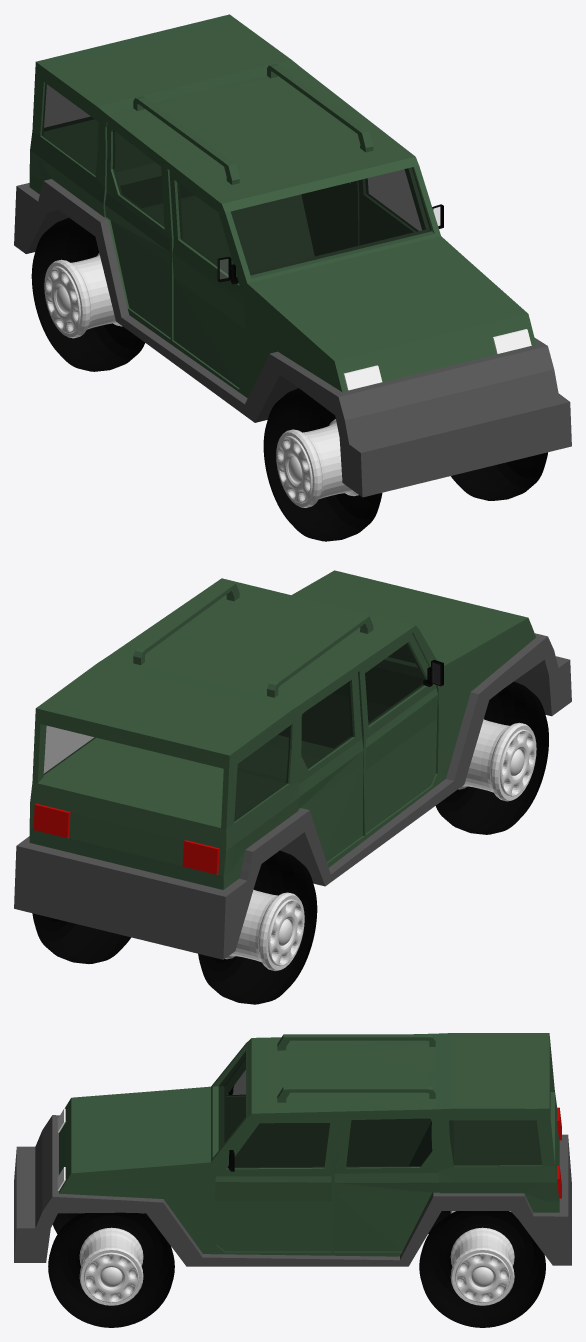
File: car.dae
3 views of the same model, one above another, from view 1: azimuth 30°, elevation 25°; view 2: azimuth 150°, elevation 25°; view 3: azimuth 270°, elevation 25° (orthographic). The views are drawn at different scales.
Visible parts, largest first — view 1: Plane, Plane.001, Plane.002, Plane.003, Plane.005, Circle.004, Circle, Plane.004, Plane.007, Plane.006, Circle.005, Circle.001 (+4 smaller); view 2: Plane, Plane.001, Circle, Plane.003, Plane.005, Circle.004, Plane.007, Plane.006, Plane.004, Circle.005, Circle.001, Plane.011 (+2 smaller); view 3: Plane, Plane.001, Plane.003, Plane.005, Circle.004, Circle, Plane.007, Plane.004, Plane.006, Circle.001, Circle.005, Circle.002 (+2 smaller).
Boxes of the visible parts, <box> form: Plane: <box>29,14,535,398</box>; Plane.001: <box>14,179,571,497</box>; Plane.002: <box>231,167,431,275</box>; Plane.003: <box>169,167,428,388</box>; Plane.005: <box>105,123,359,337</box>; Circle.004: <box>263,388,547,541</box>; Circle: <box>31,218,144,371</box>; Plane.004: <box>177,169,421,276</box>; Plane.007: <box>42,83,98,175</box>; Plane.006: <box>112,130,164,226</box>; Circle.005: <box>276,419,358,507</box>; Circle.001: <box>44,253,122,338</box>; Plane: <box>29,570,535,889</box>; Plane.001: <box>14,633,571,959</box>; Circle: <box>32,850,317,1004</box>; Plane.003: <box>361,633,437,832</box>; Plane.005: <box>298,672,363,861</box>; Circle.004: <box>436,681,548,834</box>; Plane.007: <box>43,725,290,821</box>; Plane.006: <box>301,681,352,768</box>; Plane.004: <box>365,643,425,724</box>; Circle.005: <box>458,719,536,801</box>; Circle.001: <box>225,889,304,971</box>; Plane.011: <box>33,803,219,874</box>; Plane: <box>59,1033,559,1256</box>; Plane.001: <box>14,1115,571,1266</box>; Plane.003: <box>215,1057,337,1251</box>; Plane.005: <box>333,1115,439,1251</box>; Circle.004: <box>48,1212,174,1327</box>; Circle: <box>419,1211,545,1327</box>; Plane.007: <box>449,1120,542,1165</box>; Plane.004: <box>227,1070,329,1168</box>; Plane.006: <box>346,1118,432,1167</box>; Circle.001: <box>450,1211,514,1305</box>; Circle.005: <box>79,1227,143,1305</box>; Circle.002: <box>455,1211,509,1302</box>.
Size of what is drawn, in the model's own units: 1.45 by 3.81 by 1.73.
